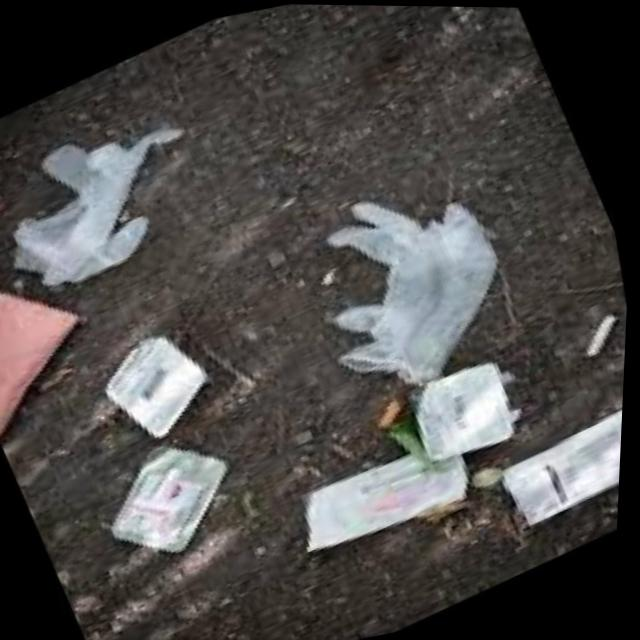leaf: (266, 127, 573, 418), (0, 81, 241, 310), (263, 415, 497, 589), (79, 279, 262, 455), (466, 364, 627, 564), (87, 425, 258, 574), (390, 344, 550, 477)
trash: (0, 158, 143, 447)
